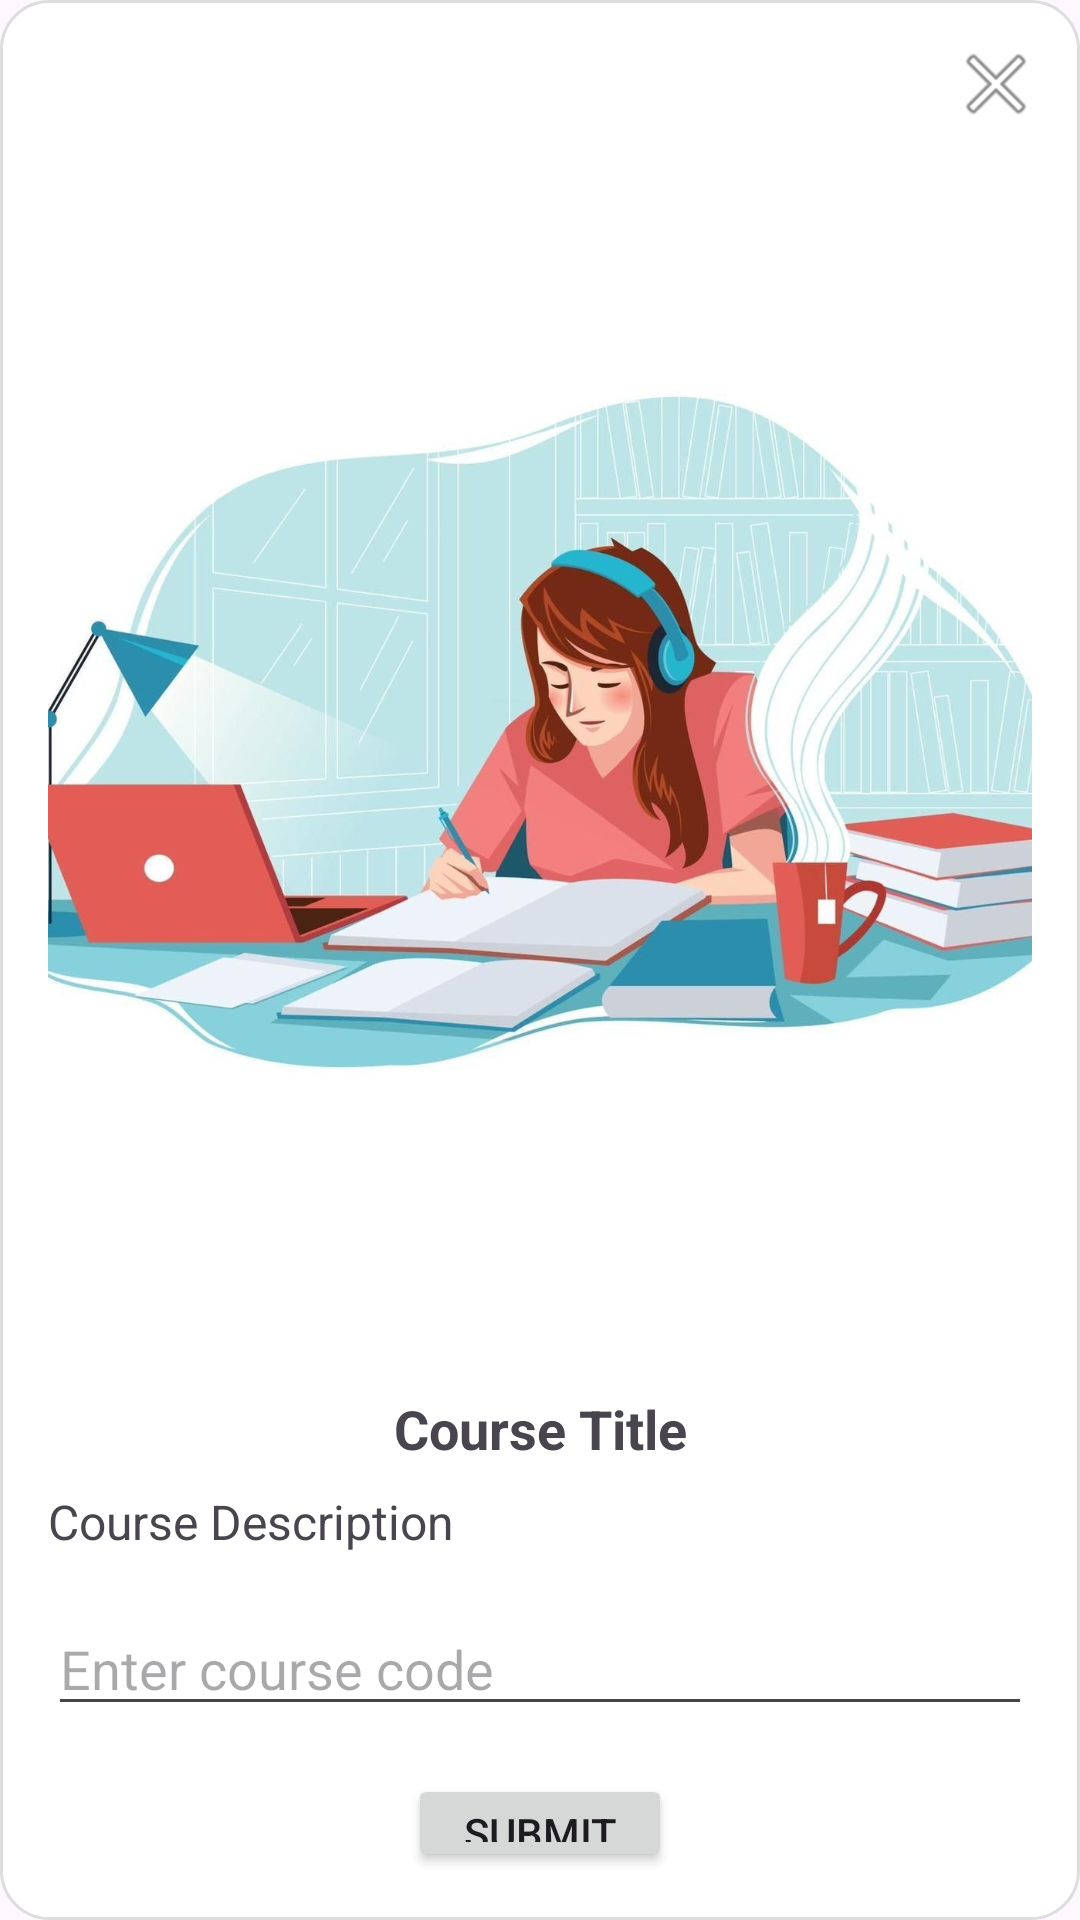

Icon click points for this 1080×1920 phone screenshot, format [x,y]:
Close: [996,84]
